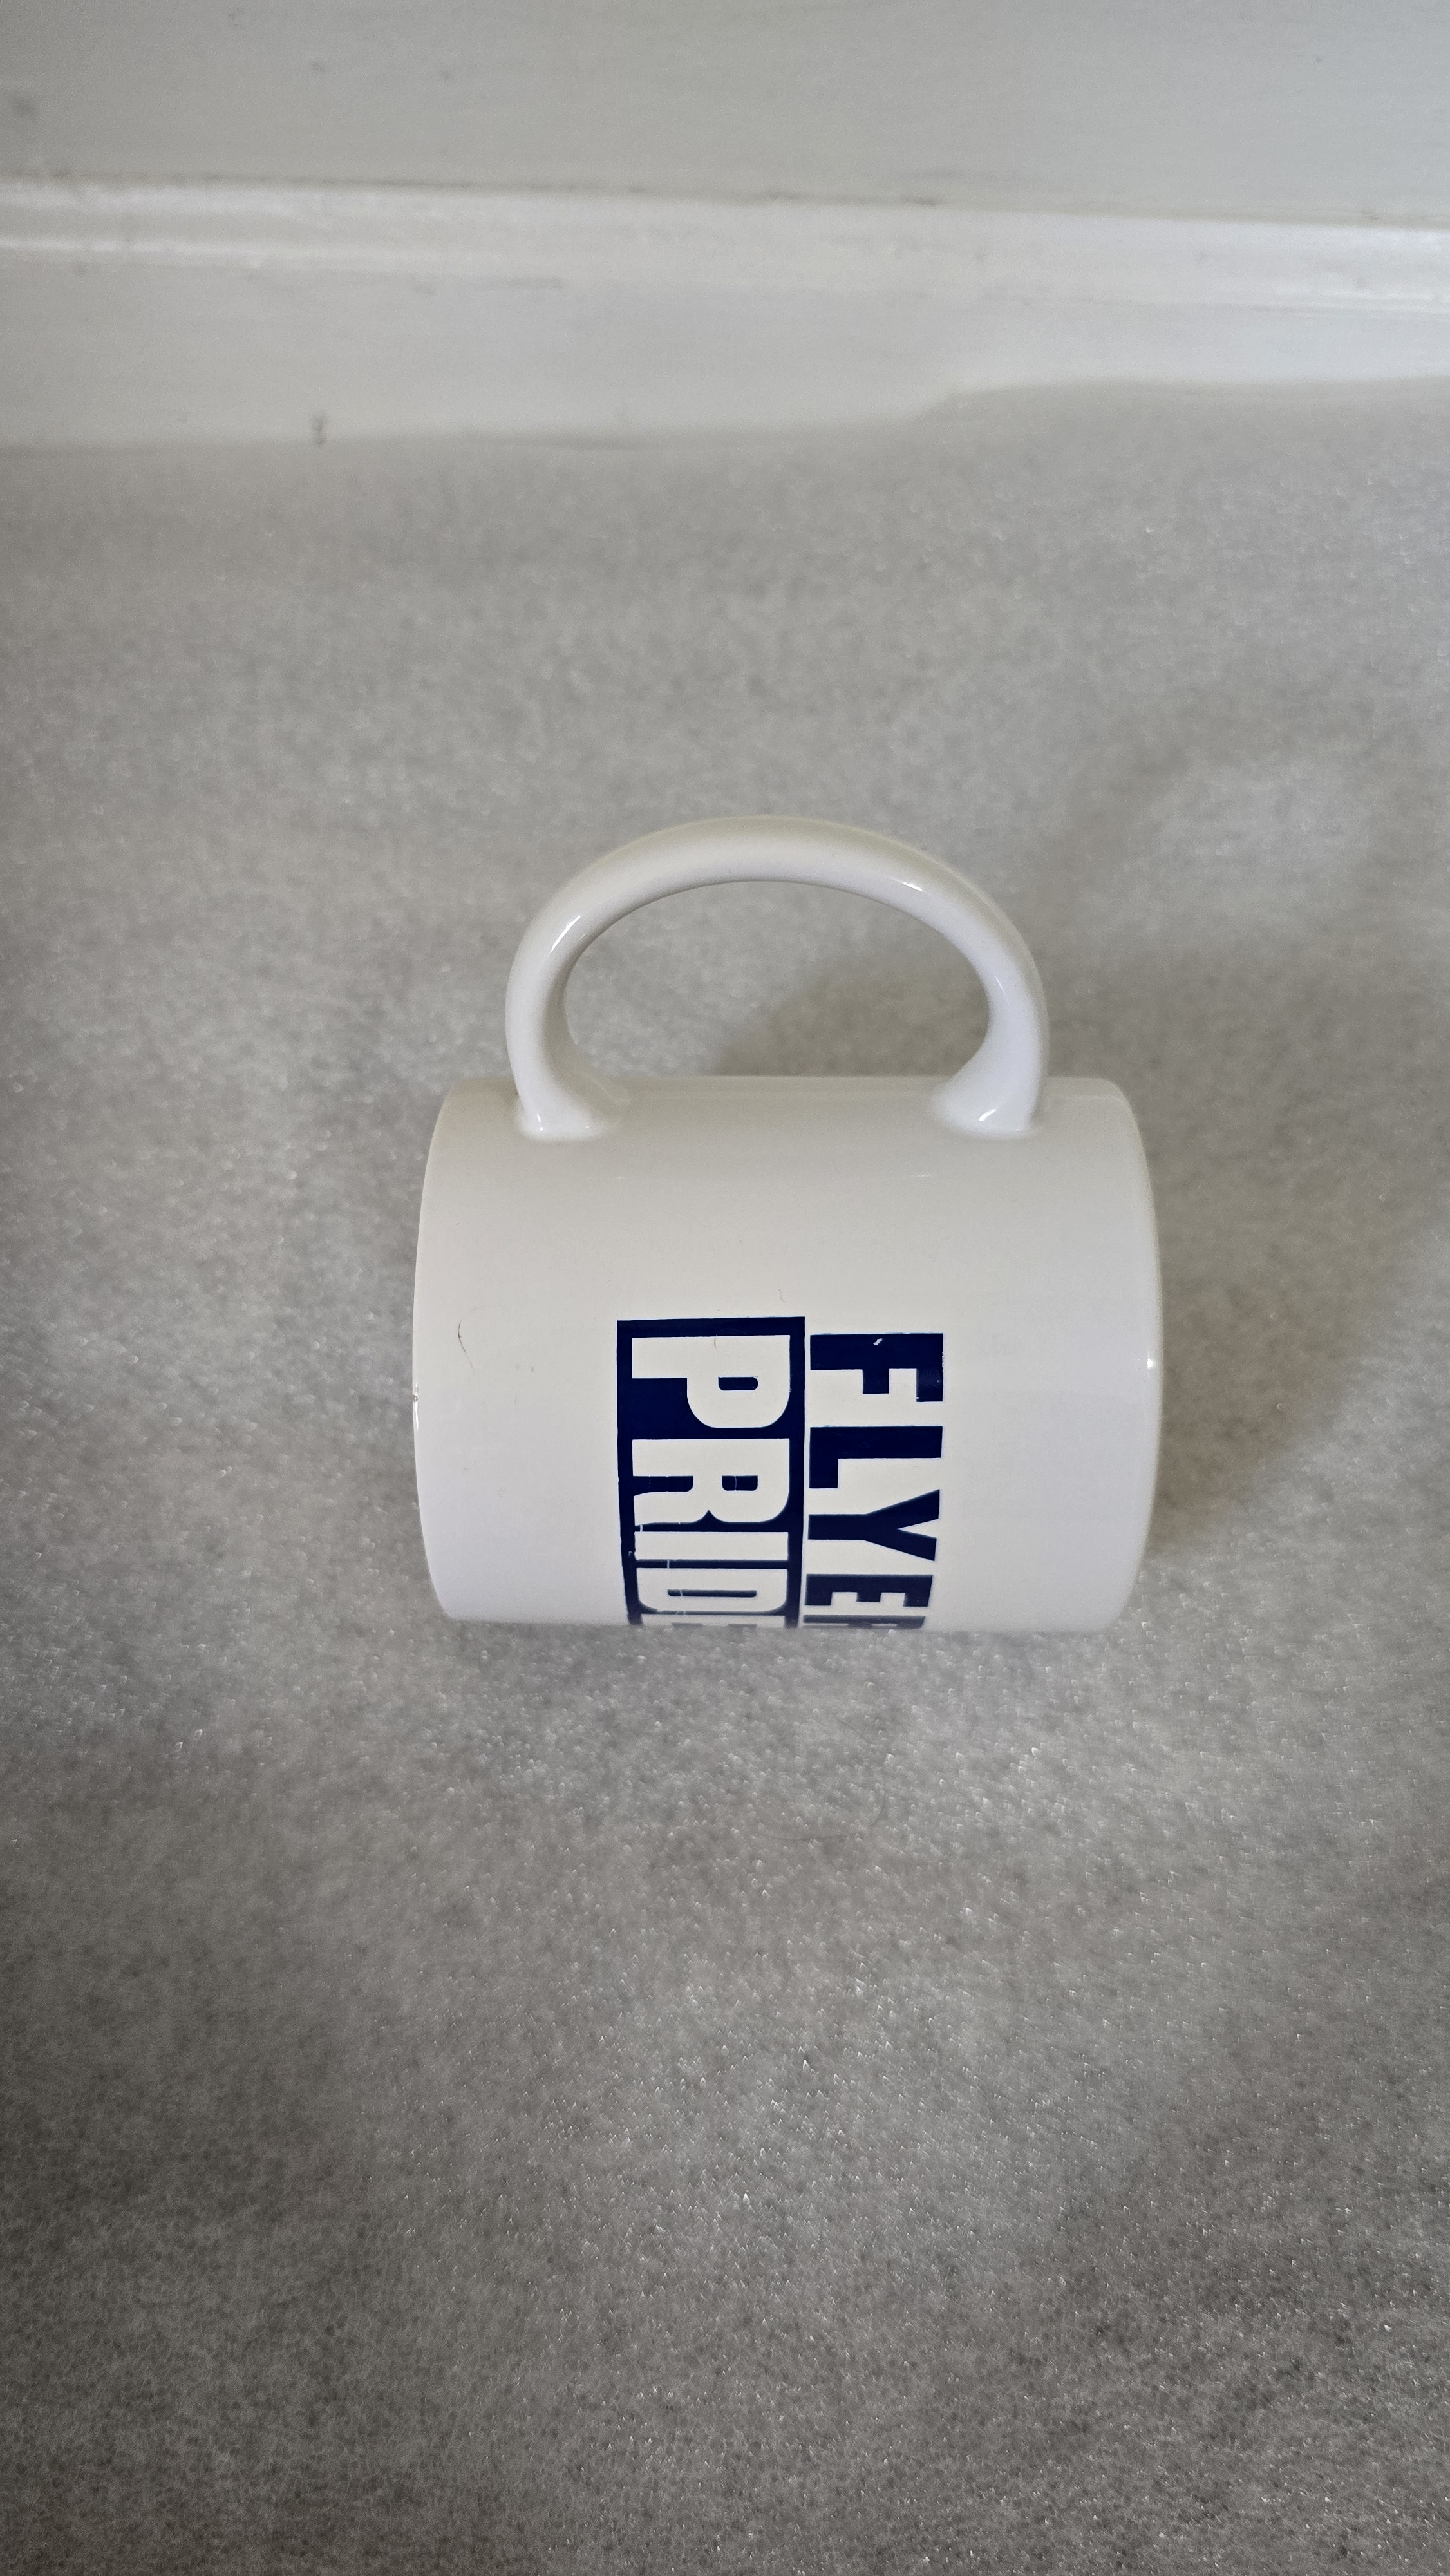mug: (325, 782, 1270, 1686)
